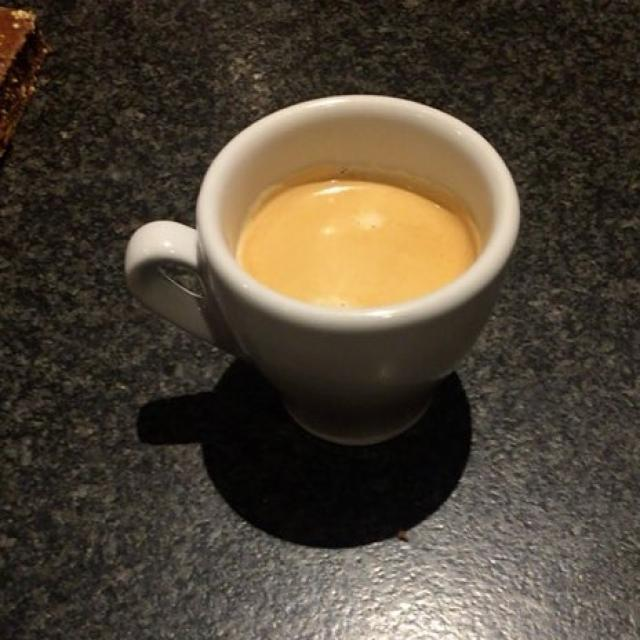espresso: (241, 174, 472, 307)
